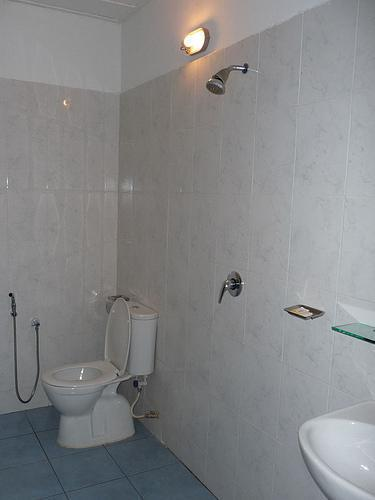Ducha: (159, 12, 297, 499)
Lavamanos: (289, 393, 374, 499)
